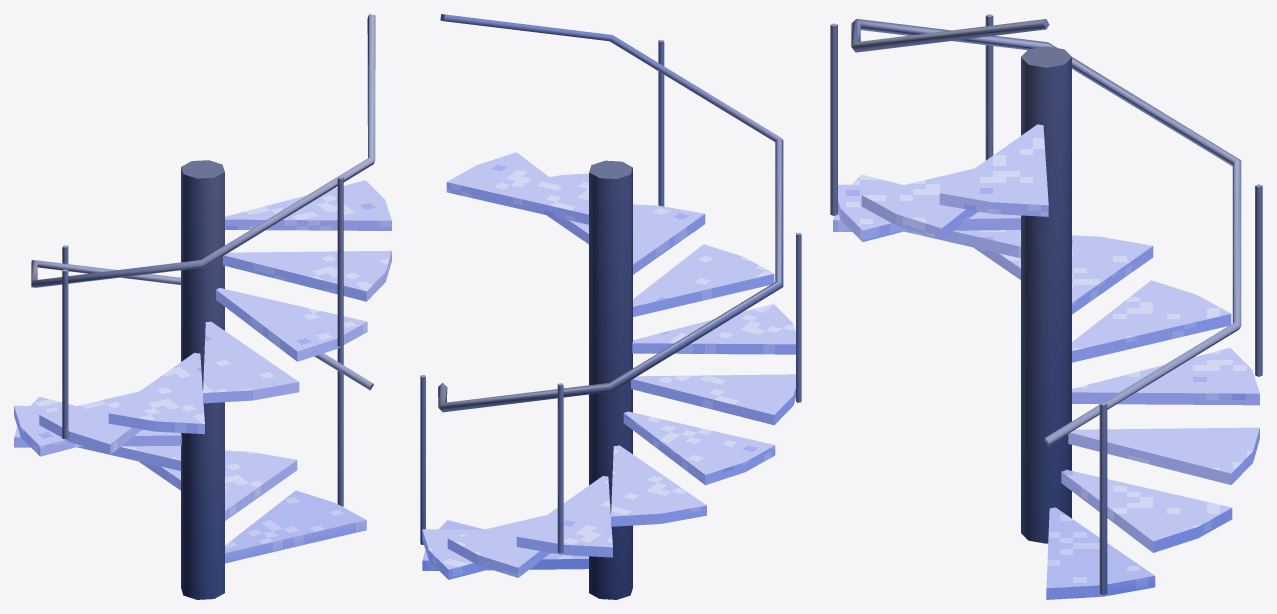
The model's file is arch.stairs.glb.
3 views of the same model, side by side, from view 1: azimuth 30°, elevation 25°; view 2: azimuth 150°, elevation 25°; view 3: azimuth 270°, elevation 25° (orthographic). The views are drawn at different scales.
Parts seen in each view (by area): view 1: kit_stairs, kit_stair_rail; view 2: kit_stairs, kit_stair_rail; view 3: kit_stairs, kit_stair_rail.
Boxes of the visible parts, box(x1,y1,x2,y2) form: kit_stairs: box(14, 160, 391, 599); kit_stair_rail: box(31, 14, 375, 506); kit_stairs: box(422, 152, 795, 599); kit_stair_rail: box(420, 14, 801, 553); kit_stairs: box(833, 46, 1259, 599); kit_stair_rail: box(830, 14, 1262, 595).
Size of the model in its own units: 2.1 by 3.13 by 2.03.
Materials: 3 (1 with a texture image).
